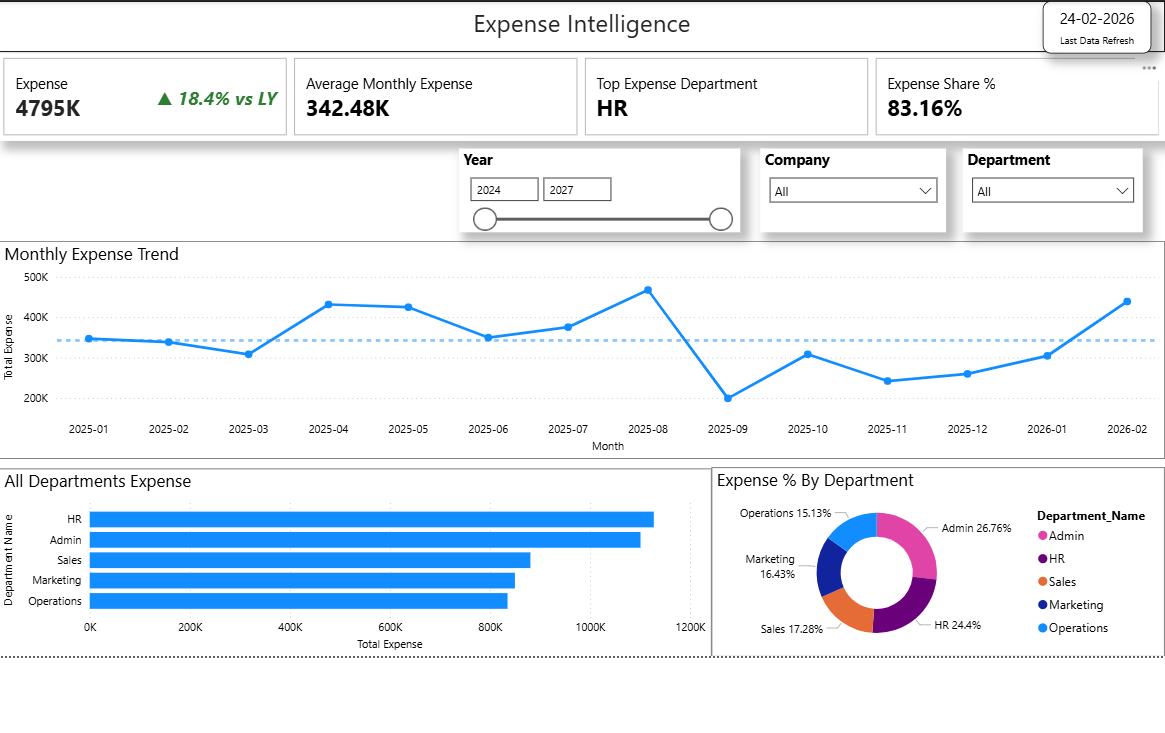

This screenshot's page, from the dashboard's own definition file:
{"tool":"powerbi","page":{"name":"Expense Intelligence","canvas":[1280,720],"ordinal":2},"visuals":[{"type":"cardVisual","title":"T","fields":{"Data":["Measure.Total Expense","Measure.Avg Monthly Expense","Measure.Top Expense Department","Measure.Expense Share %"]},"box":[0,57.2,1280,95.8],"z":0},{"type":"textbox","box":[0,0,1280,56],"z":1000},{"type":"donutChart","title":"Expense % By Department","fields":{"Category":["Dim_Department.Department_Name"],"Y":["Measure.Expense Share %"]},"box":[782.5,512.5,497.6,207.7],"z":2000},{"type":"lineChart","title":"Monthly Expense Trend","fields":{"Category":["Dim_Date.YearMonth"],"Y":["Measure.Total Expense"]},"box":[0,263.7,1280,238.8],"z":3000},{"type":"card","fields":{"Values":["Measure.Last Data Refresh"]},"box":[1145.7,0,119.4,57.2],"z":4000},{"type":"clusteredBarChart","fields":{"Y":["Measure.Total Expense"],"Category":["Dim_Department.Department_Name"]},"box":[0,513,782,207],"z":5000},{"type":"slicer","title":"Year","fields":{"Values":["Dim_Date.Year"]},"box":[505,161.7,308.5,92.1],"z":6000},{"type":"slicer","title":"Company","fields":{"Values":["Dim_Company.Company_Name"]},"box":[835.9,161.7,204,92.1],"z":7000},{"type":"slicer","title":"Department","fields":{"Values":["Dim_Department.Department_Name"]},"box":[1058.6,161.7,197.8,92.1],"z":8000}]}

Visuals, with their boxes on the page's 1280x720 design canvas (x1, y1, x2, y2). These are canvas units, not pixel positions in the 1165x733 screenshot, which may show the page scaled, cropped or inside an application window:
"T" cardVisual: [left=0, top=57, right=1280, bottom=153]
textbox: [left=0, top=0, right=1280, bottom=56]
"Expense % By Department" donutChart: [left=782, top=512, right=1280, bottom=720]
"Monthly Expense Trend" lineChart: [left=0, top=264, right=1280, bottom=502]
card - Measure.Last Data Refresh: [left=1146, top=0, right=1265, bottom=57]
clusteredBarChart - Measure.Total Expense x Dim_Department.Department_Name: [left=0, top=513, right=782, bottom=720]
"Year" slicer: [left=505, top=162, right=814, bottom=254]
"Company" slicer: [left=836, top=162, right=1040, bottom=254]
"Department" slicer: [left=1059, top=162, right=1256, bottom=254]
